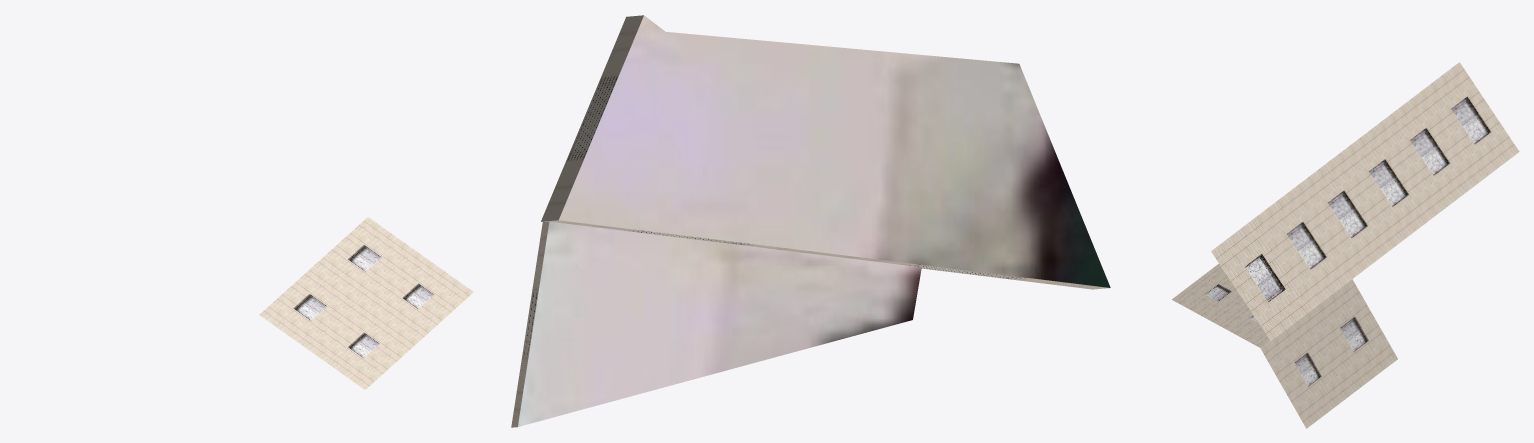
3 renders of one model, left to right at view 1: azimuth 30°, elevation 25°; view 2: azimuth 150°, elevation 25°; view 3: azimuth 270°, elevation 25°, orthographic. The views are drawn at different scales.
Bounding box in the file's own units: 23.63 × 19.29 × 22.37.
4 materials, 4 textured.
